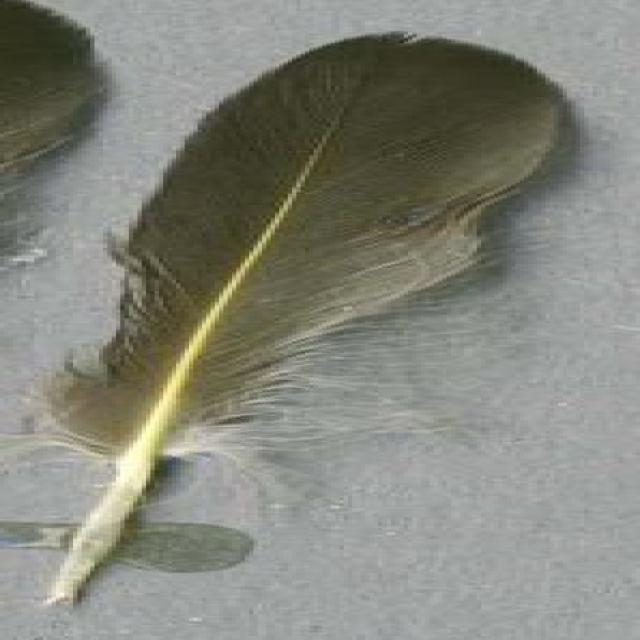feather: (19, 30, 573, 608)
